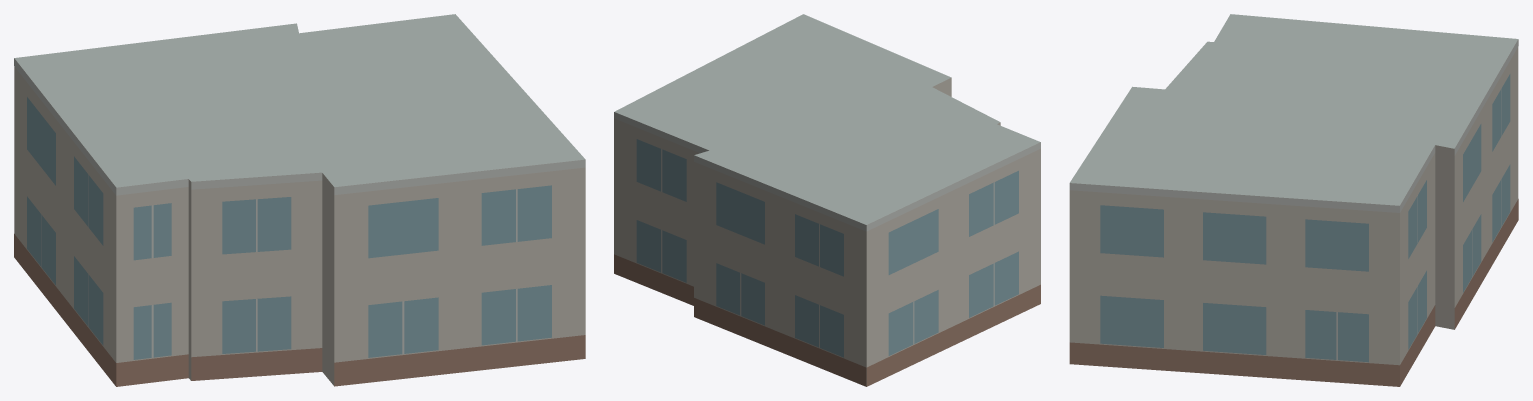
Rendered from survey-upis-32480771.glb.
3 views of the same model, side by side, from view 1: azimuth 30°, elevation 25°; view 2: azimuth 150°, elevation 25°; view 3: azimuth 270°, elevation 25° (orthographic). The views are drawn at different scales.
Parts seen in each view (by area): view 1: survey-upis-32480771.tmp; view 2: survey-upis-32480771.tmp; view 3: survey-upis-32480771.tmp.
Part boxes in pixels (<box>): survey-upis-32480771.tmp: <box>14,14,585,386</box>; survey-upis-32480771.tmp: <box>614,14,1040,386</box>; survey-upis-32480771.tmp: <box>1069,14,1518,386</box>.
Bounding box in the file's own units: 13.86 × 6.1 × 13.72.
